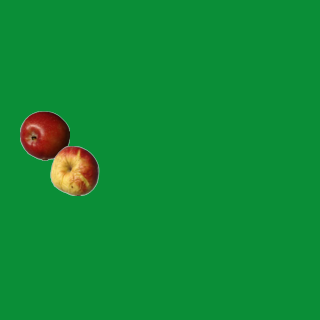Apple Braeburn: (19, 110, 69, 160)
Apple Red Yellow 1: (49, 145, 99, 195)
